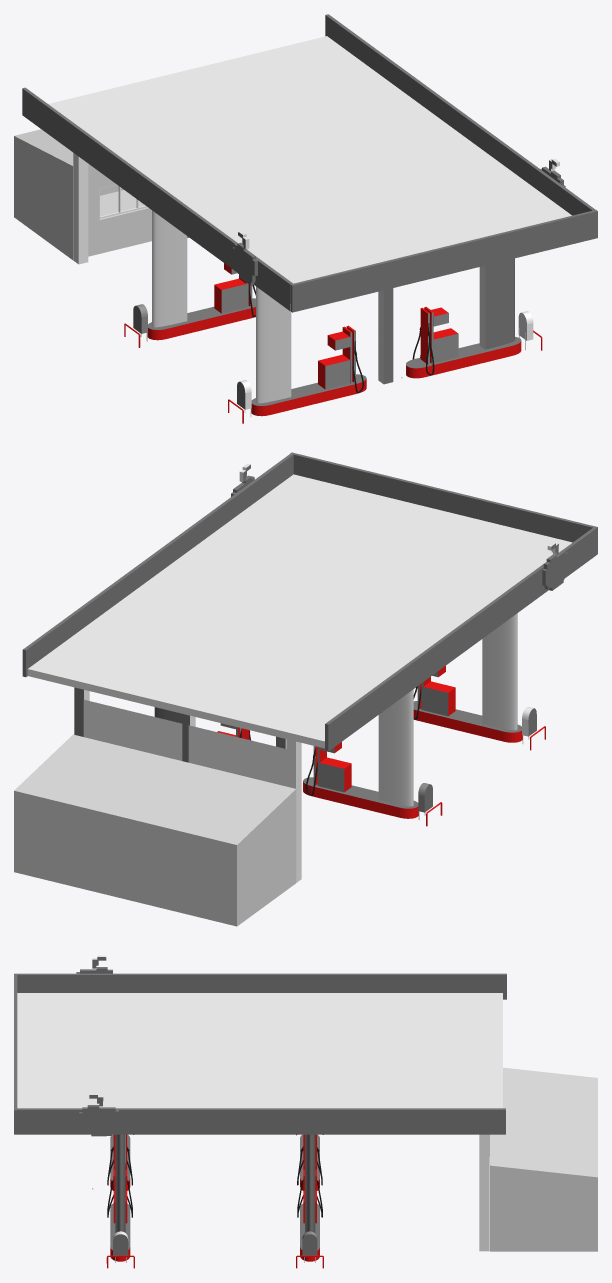
The model's file is Refueling.FBX.
The picture shows the model from 3 angles, top to bottom: view 1: azimuth 30°, elevation 25°; view 2: azimuth 150°, elevation 25°; view 3: azimuth 270°, elevation 25°; orthographic projection. The views are drawn at different scales.
Visible parts, largest first — view 1: Box06, Box15, Box01, Box02, Box19, Line40, Line38, Line06, Line02, Line07, Line08, Box18 (+5 smaller); view 2: Box06, Box15, Box02, Box01, Box19, Plane03, Plane02, Line38, Line40, Line08, Line07, Box18 (+3 smaller); view 3: Box06, Box15, Box19, Box02, Box17, Line22, Line06, Line39, Box01, Line02, Line09.
Boxes of the visible parts, bbox=[...] form: Box06: bbox=[48, 36, 571, 310]; Box15: bbox=[14, 129, 151, 259]; Box01: bbox=[290, 210, 597, 312]; Box02: bbox=[22, 87, 292, 310]; Box19: bbox=[325, 14, 595, 215]; Line40: bbox=[152, 210, 187, 327]; Line38: bbox=[256, 286, 291, 403]; Line06: bbox=[479, 258, 514, 349]; Line02: bbox=[406, 337, 521, 378]; Line07: bbox=[251, 374, 366, 416]; Line08: bbox=[147, 298, 255, 340]; Box18: bbox=[73, 153, 88, 264]; Box06: bbox=[27, 474, 572, 748]; Box15: bbox=[14, 734, 296, 926]; Box02: bbox=[325, 527, 596, 751]; Box01: bbox=[290, 452, 597, 554]; Box19: bbox=[22, 453, 293, 677]; Plane03: bbox=[83, 699, 182, 760]; Plane02: bbox=[188, 725, 286, 786]; Line38: bbox=[482, 613, 517, 730]; Line40: bbox=[378, 689, 413, 806]; Line08: bbox=[303, 777, 418, 818]; Line07: bbox=[413, 701, 522, 742]; Box18: bbox=[286, 739, 301, 882]; Box06: bbox=[17, 993, 502, 1108]; Box15: bbox=[490, 1067, 597, 1251]; Box19: bbox=[16, 1108, 505, 1134]; Box02: bbox=[17, 973, 506, 999]; Box17: bbox=[479, 1134, 489, 1251]; Line22: bbox=[79, 1105, 119, 1136]; Line06: bbox=[115, 1134, 125, 1232]; Line39: bbox=[305, 1134, 315, 1232]; Box01: bbox=[14, 973, 17, 1134]; Line02: bbox=[110, 1203, 130, 1261]; Line09: bbox=[300, 1203, 319, 1261].
Size of the model in its own units: 97.21 by 57.51 by 172.
